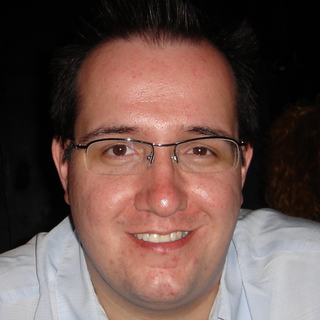eye: (94, 138, 143, 163), (179, 141, 222, 167)
